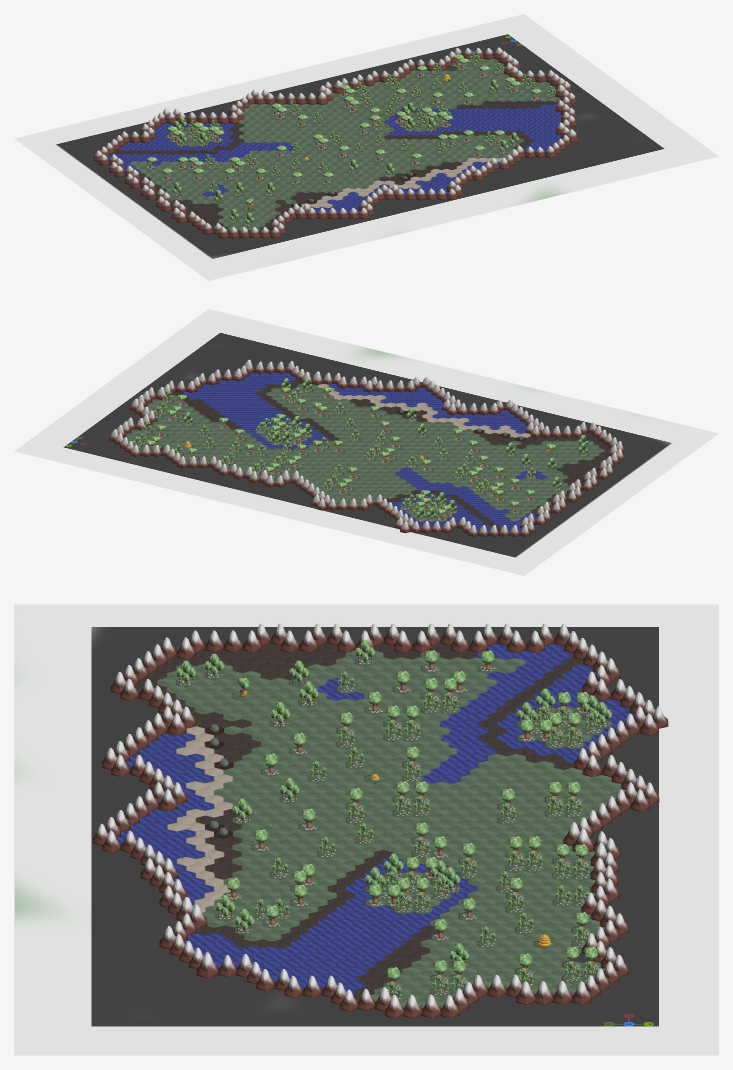
Rendered from The Great Outdoors.fbx.
3 renders of one model, top to bottom at view 1: azimuth 30°, elevation 25°; view 2: azimuth 150°, elevation 25°; view 3: azimuth 270°, elevation 25°, orthographic. The views are drawn at different scales.
Visible parts, largest first — view 1: Plane; view 2: Plane; view 3: Plane.
Part boxes in pixels (x1,y1,x2,y2): Plane: (14,14,718,280); Plane: (14,309,718,575); Plane: (14,604,718,1055).
Size of the model in its own units: 25683 by 678 by 16956.
Materials: 6 (6 with a texture image).
